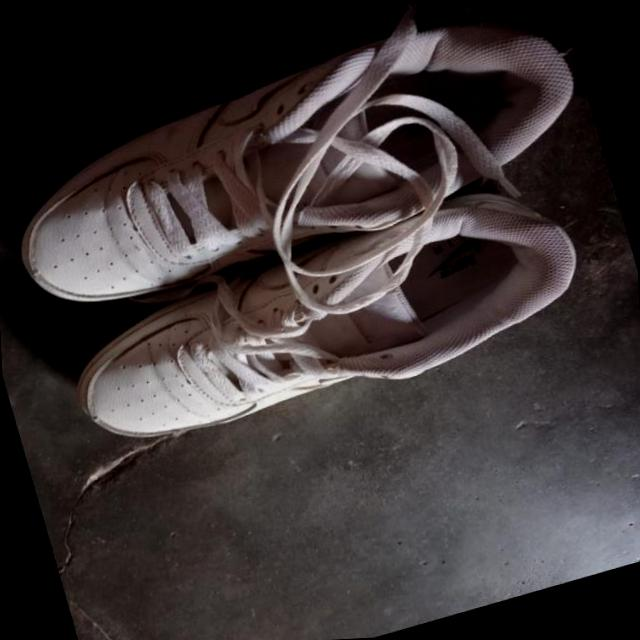nike_fake_airforce: (0, 0, 605, 333), (31, 168, 605, 474)
